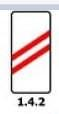road_sign: (10, 9, 51, 94)
